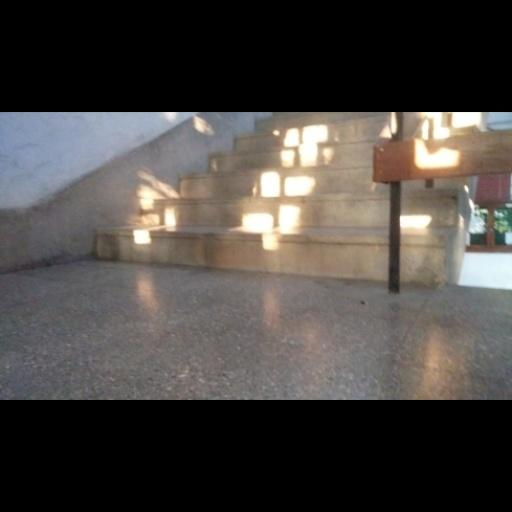stairs: (96, 112, 388, 280)
